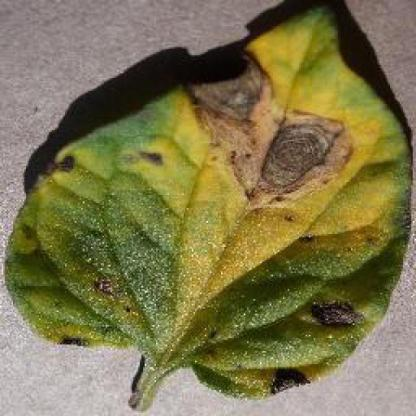Tomato_Blight: (5, 3, 408, 399)
